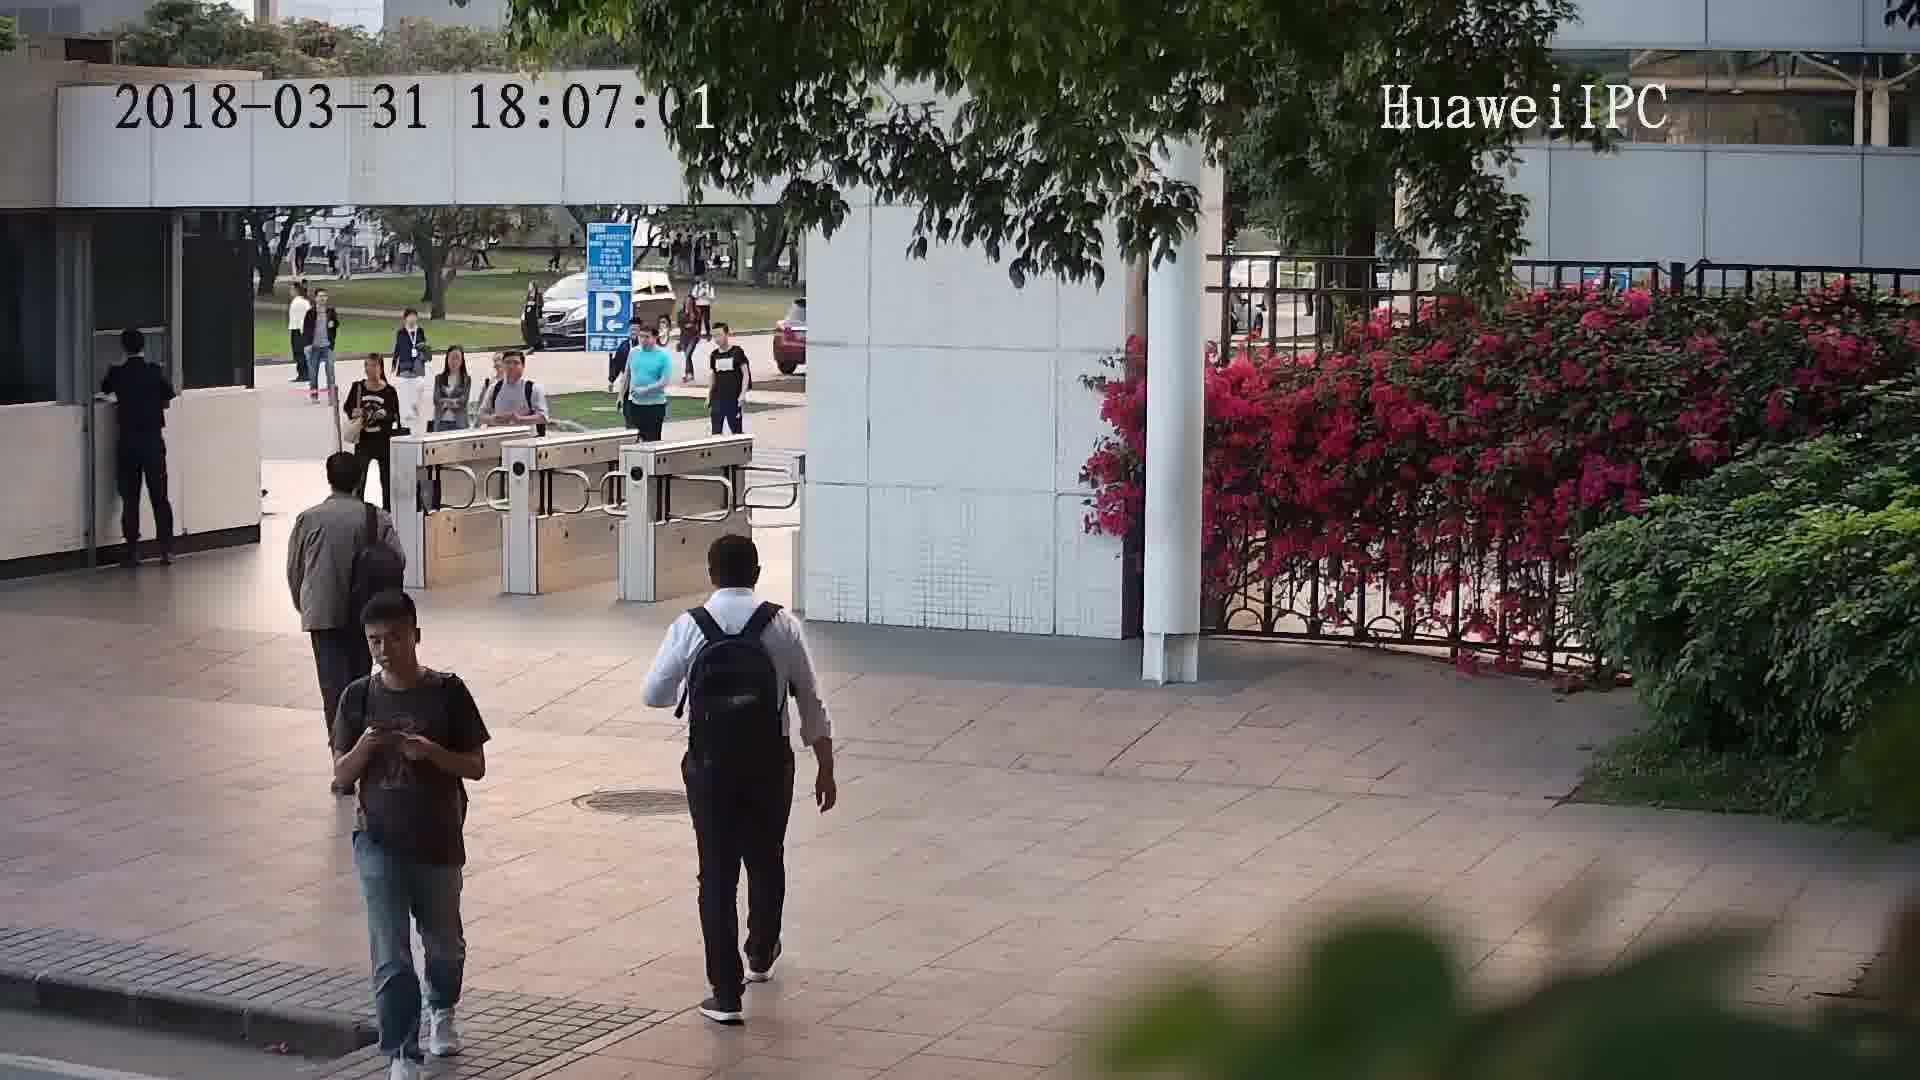face: (359, 614, 419, 674)
person: (335, 590, 470, 715), (668, 527, 802, 647), (295, 449, 388, 535), (107, 326, 163, 387), (346, 350, 397, 401), (486, 349, 542, 393), (430, 341, 476, 387), (630, 322, 674, 365), (708, 319, 748, 363), (392, 303, 425, 339), (284, 274, 312, 312), (676, 290, 708, 325), (307, 285, 335, 322), (522, 275, 547, 307), (693, 267, 715, 290)
